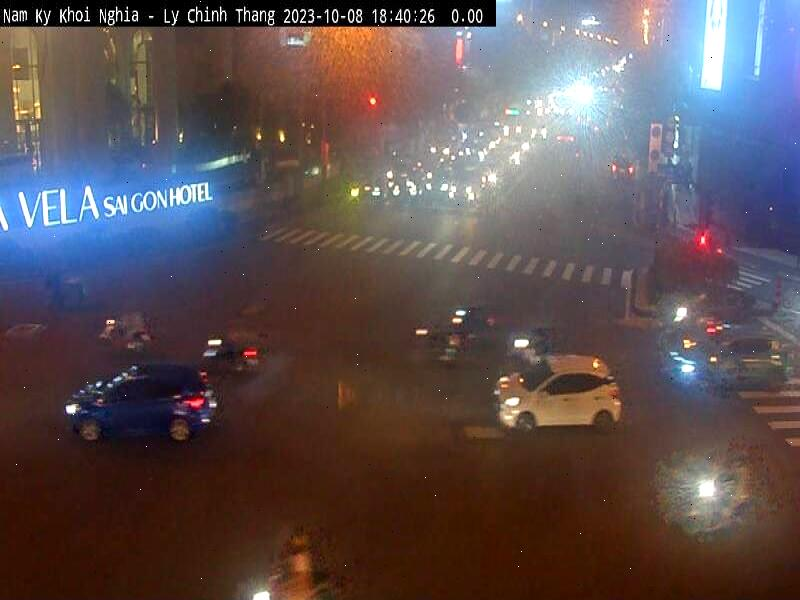car: (62, 348, 214, 464), (480, 351, 627, 464)
